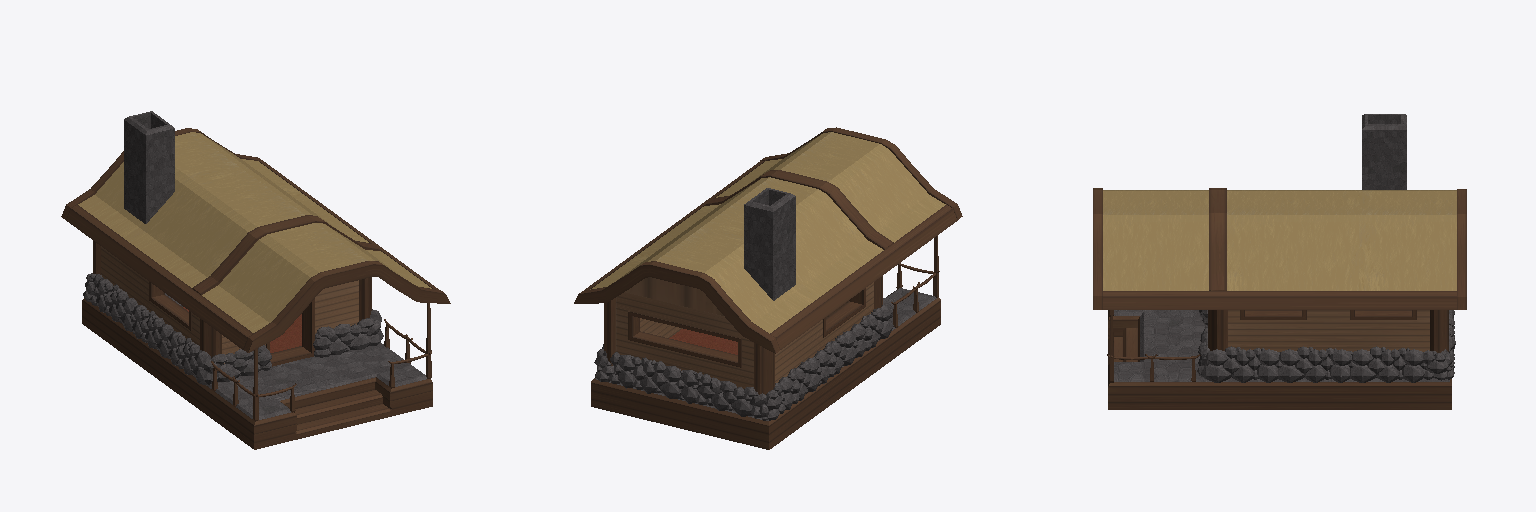
3 renders of one model, left to right at view 1: azimuth 30°, elevation 25°; view 2: azimuth 150°, elevation 25°; view 3: azimuth 270°, elevation 25°, orthographic.
Bounding box in the file's own units: 15.66 × 16.22 × 25.02.
Materials: 5 (5 with a texture image).